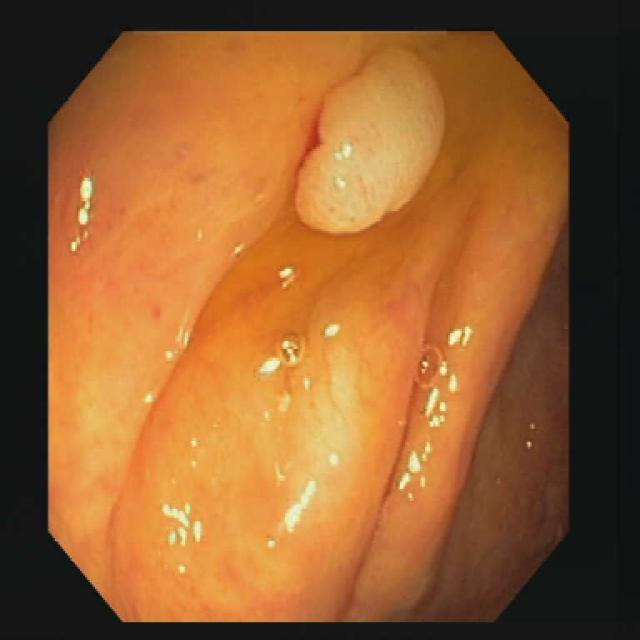tumor: (295, 47, 443, 231)
